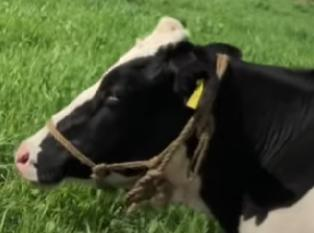cow: (15, 34, 314, 233)
